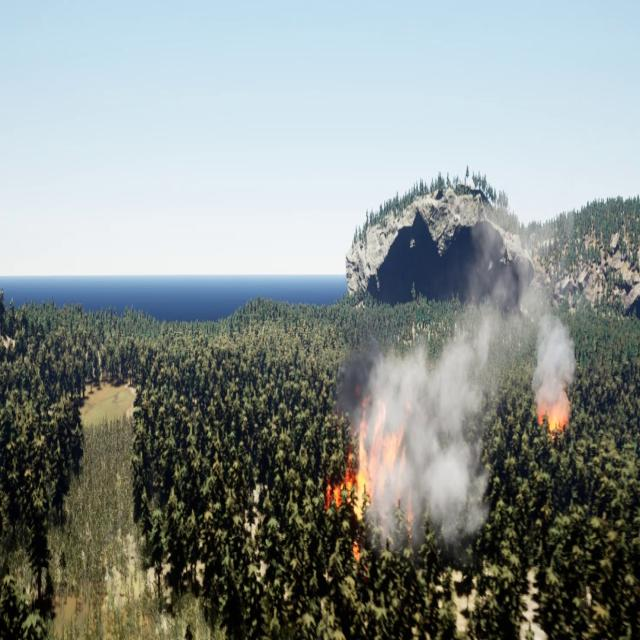fire: (323, 397, 413, 565), (534, 392, 573, 444)
smoke: (353, 178, 574, 558)
